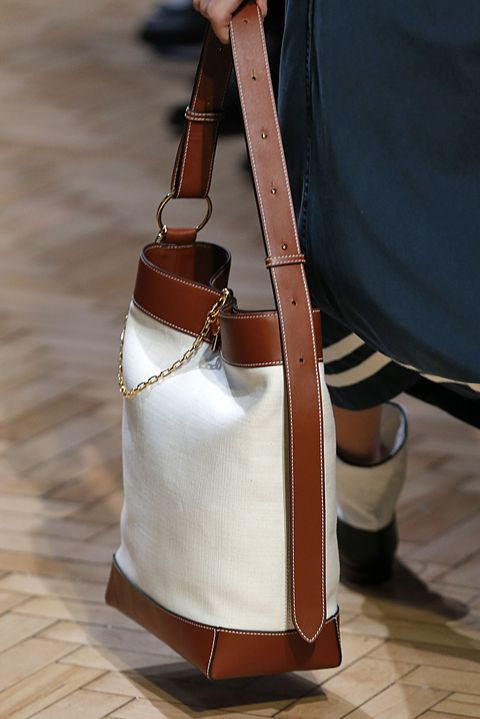cuero: (103, 1, 345, 680)
